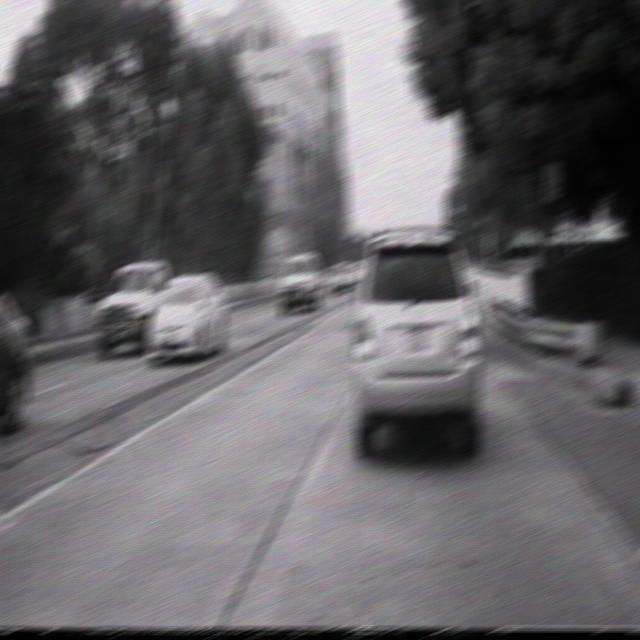speedLimit35: (540, 160, 564, 199)
